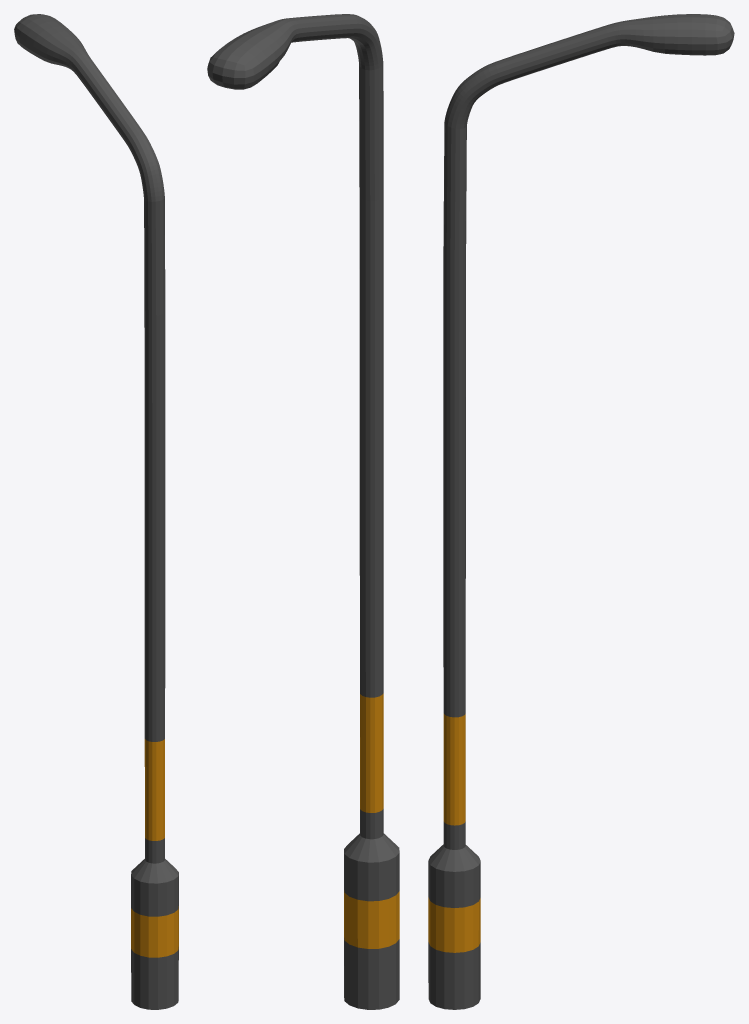
File: road_lamp_1.fbx
The picture shows the model from 3 angles, left to right: view 1: azimuth 30°, elevation 25°; view 2: azimuth 150°, elevation 25°; view 3: azimuth 270°, elevation 25°; orthographic projection. The views are drawn at different scales.
Visible parts, largest first — view 1: road_lamp_1; view 2: road_lamp_1; view 3: road_lamp_1.
Part boxes in pixels (x1,y1,x2,y2): road_lamp_1: (14, 14, 178, 1009); road_lamp_1: (207, 14, 399, 1009); road_lamp_1: (428, 14, 734, 1009).
Size of the model in its own units: 0.4952 by 2.89 by 10.23.
